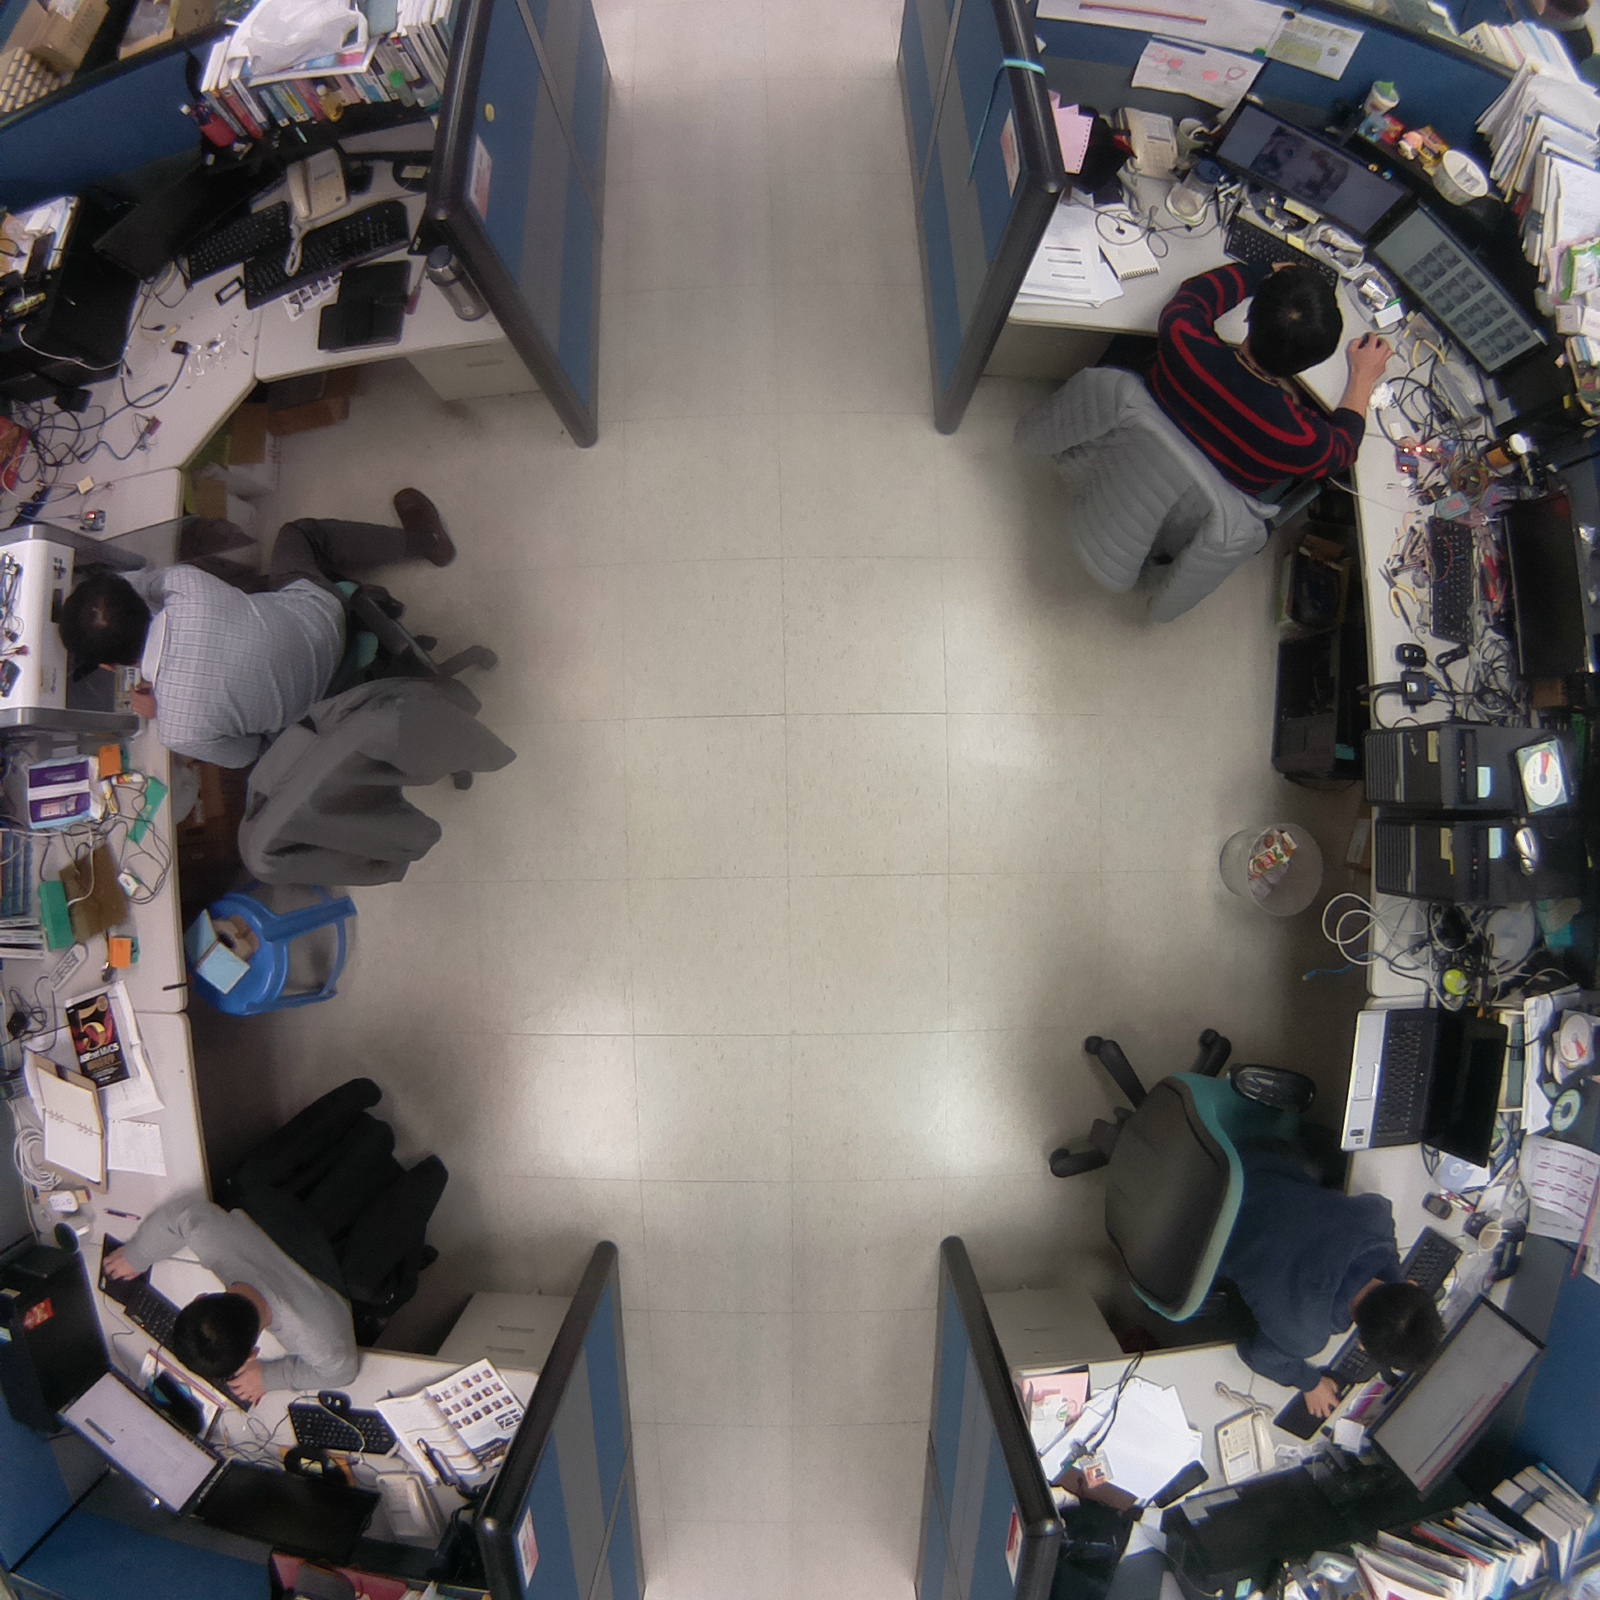head: (1238, 263, 1346, 372), (1346, 1268, 1451, 1376), (51, 570, 155, 670), (170, 1285, 263, 1387)
sitting: (48, 458, 535, 904), (1022, 1004, 1458, 1423), (1004, 247, 1396, 629), (96, 1045, 473, 1407)
